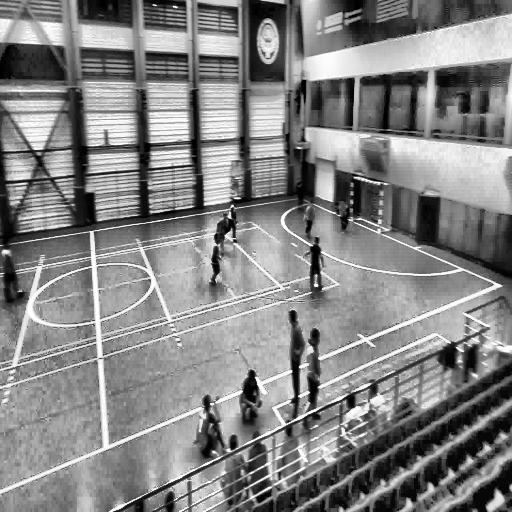ball: (314, 282, 319, 293)
player: (287, 310, 308, 412), (2, 232, 25, 304), (241, 368, 262, 425), (308, 236, 324, 294), (215, 212, 229, 257), (210, 232, 221, 288), (227, 202, 239, 242), (305, 200, 315, 238), (338, 200, 348, 235)
